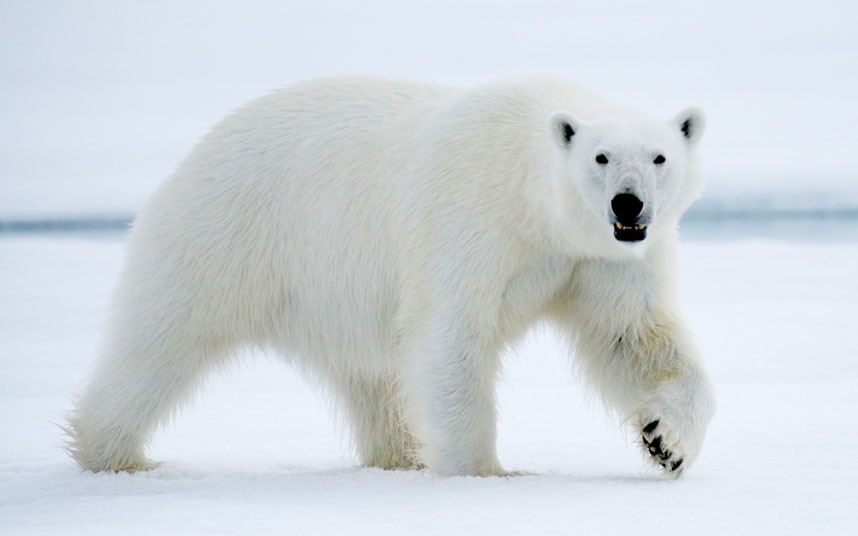Polar Bear: (62, 31, 762, 514)
